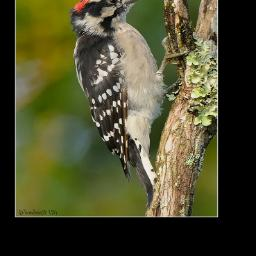Woodpecker: (66, 0, 185, 210)
